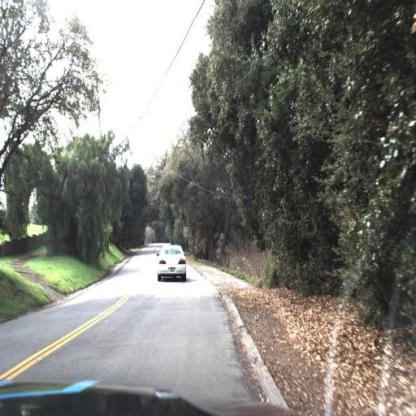car: (152, 241, 192, 288)
